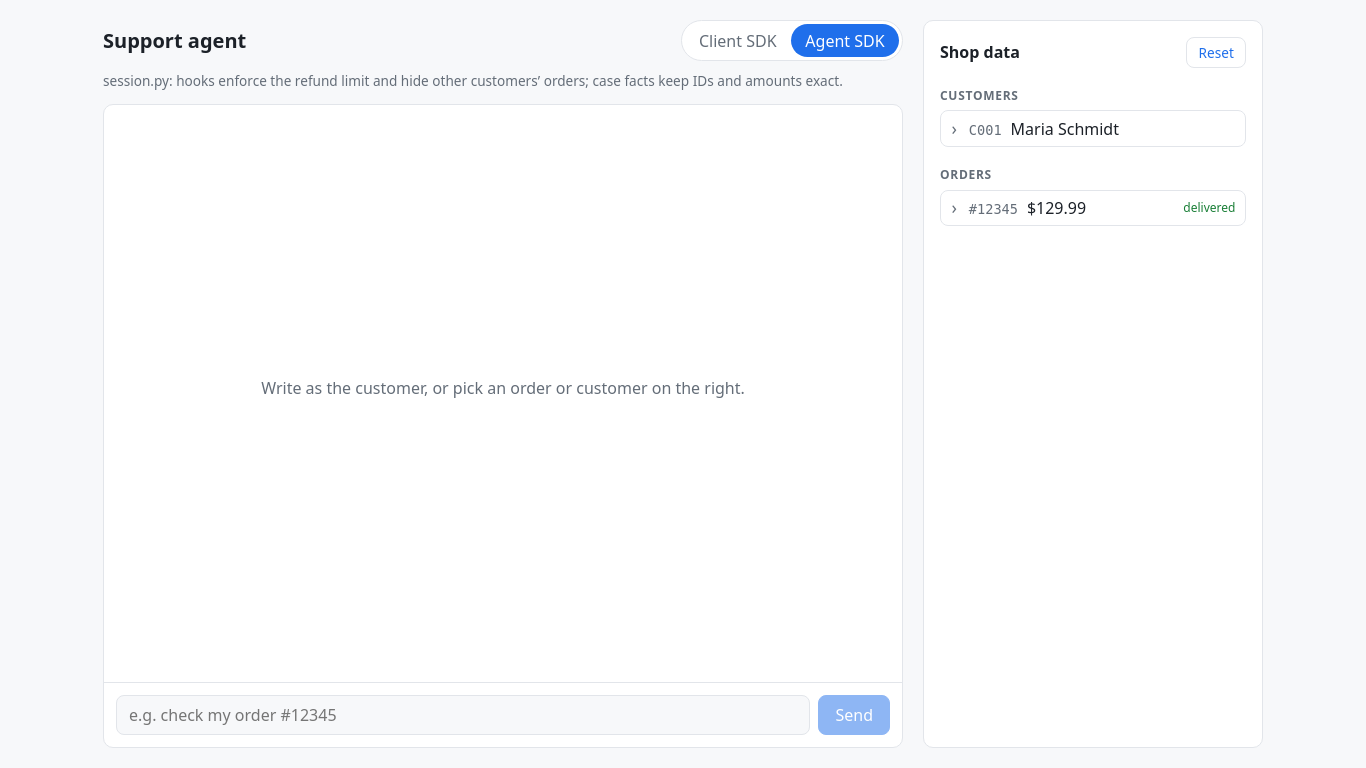
Test: the chevron toggles a row even while text is selected
Check: the text "#12345" is shown, box [969, 201, 1018, 217]
Click the button named "Expand" at (954, 208), box [946, 199, 962, 217]
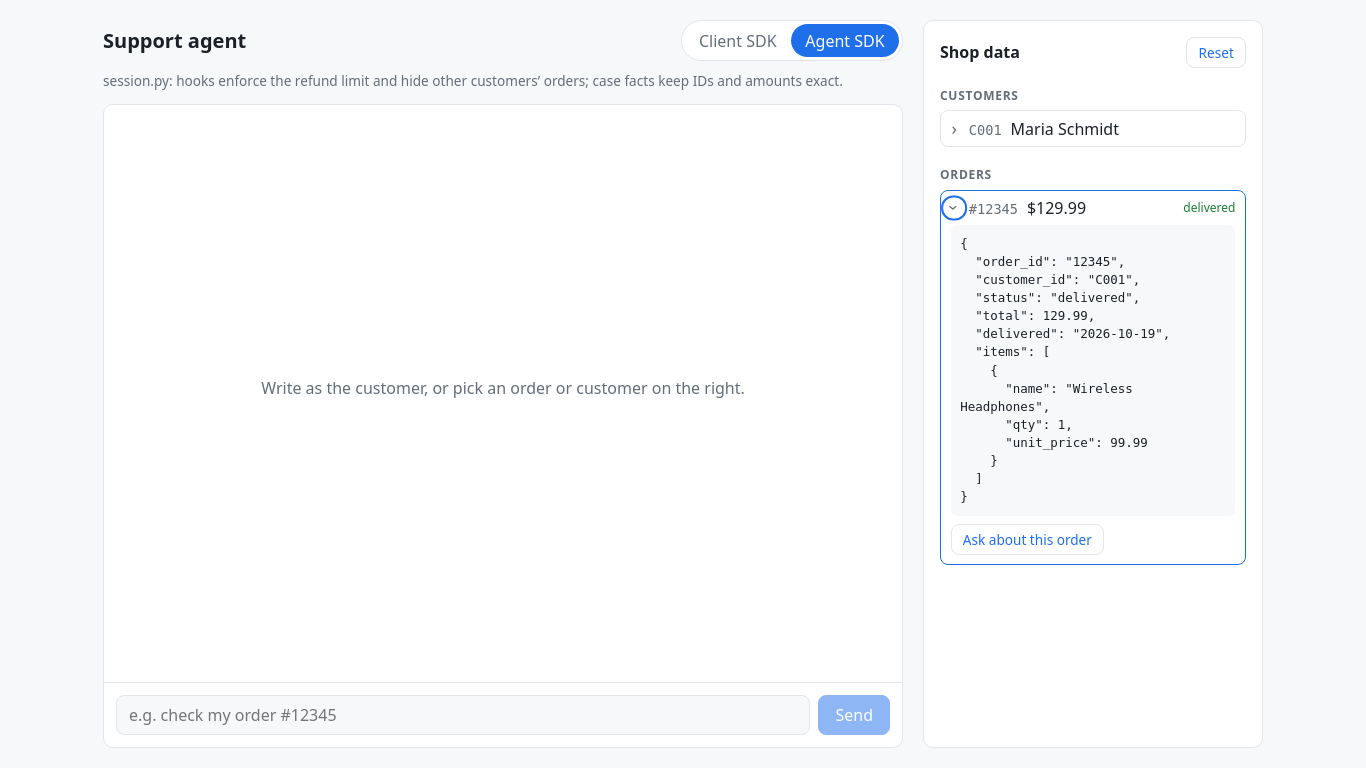
Check: the text "\"delivered\"" is shown, box [960, 236, 1170, 504]
Check: the button named "Expand" is expanded, box [945, 200, 963, 216]
